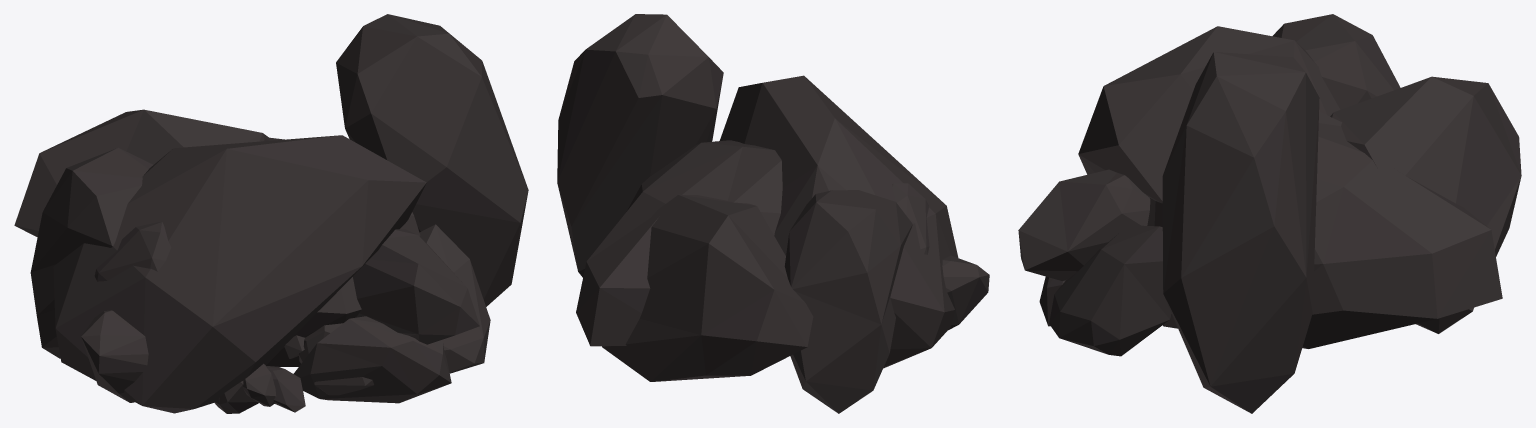
The model's file is SmallRocks.fbx.
The picture shows the model from 3 angles, left to right: view 1: azimuth 30°, elevation 25°; view 2: azimuth 150°, elevation 25°; view 3: azimuth 270°, elevation 25°; orthographic projection. The views are drawn at different scales.
Parts seen in each view (by area): view 1: SmallRock, SmallRock.002; view 2: SmallRock, SmallRock.002; view 3: SmallRock, SmallRock.002.
Boxes of the visible parts, <box> form: SmallRock: <box>30,14,528,413</box>; SmallRock.002: <box>14,109,426,413</box>; SmallRock: <box>557,14,989,413</box>; SmallRock.002: <box>602,75,958,381</box>; SmallRock: <box>1018,14,1502,413</box>; SmallRock.002: <box>1078,26,1521,333</box>.
Size of the model in its own units: 1.29 by 0.9637 by 1.21.
